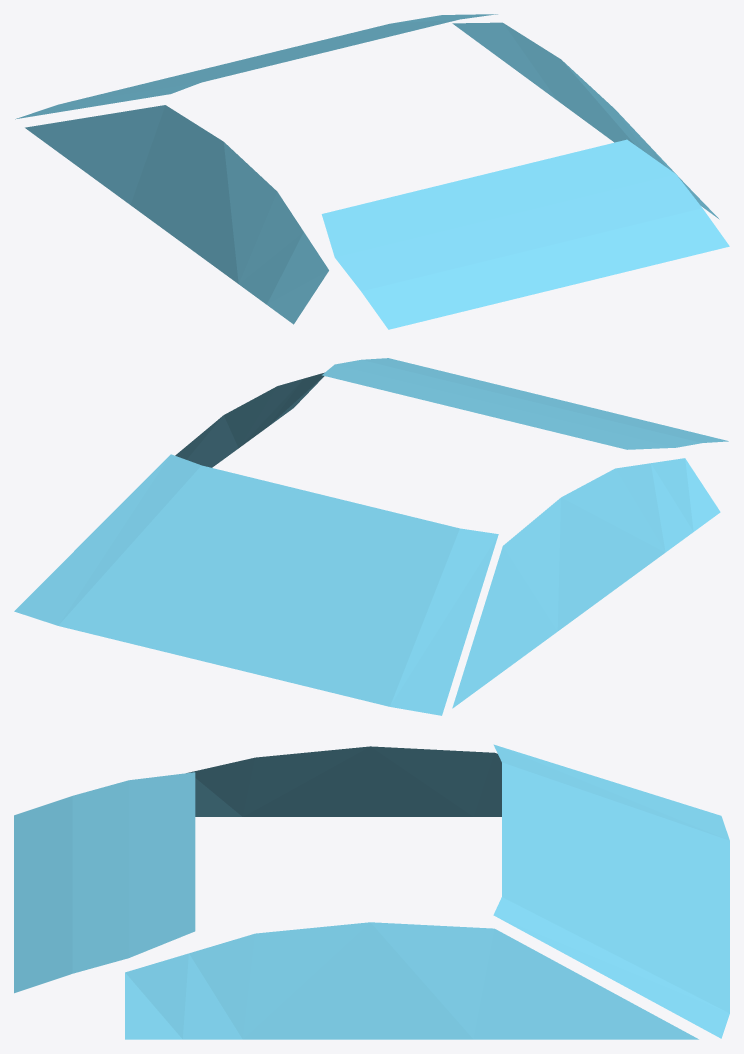
File: window.glb
The picture shows the model from 3 angles, top to bottom: view 1: azimuth 30°, elevation 25°; view 2: azimuth 150°, elevation 25°; view 3: azimuth 270°, elevation 25°; orthographic projection. The views are drawn at different scales.
Parts seen in each view (by area): view 1: window_Cube.003; view 2: window_Cube.003; view 3: window_Cube.003.
Boxes of the visible parts, x1,y1,x2,y2 form: window_Cube.003: (15, 14, 729, 329); window_Cube.003: (14, 358, 728, 715); window_Cube.003: (14, 744, 729, 1039).
Bounding box in the file's own units: 1.84 × 0.379 × 2.49.
Materials: 1 (1 with a texture image).
